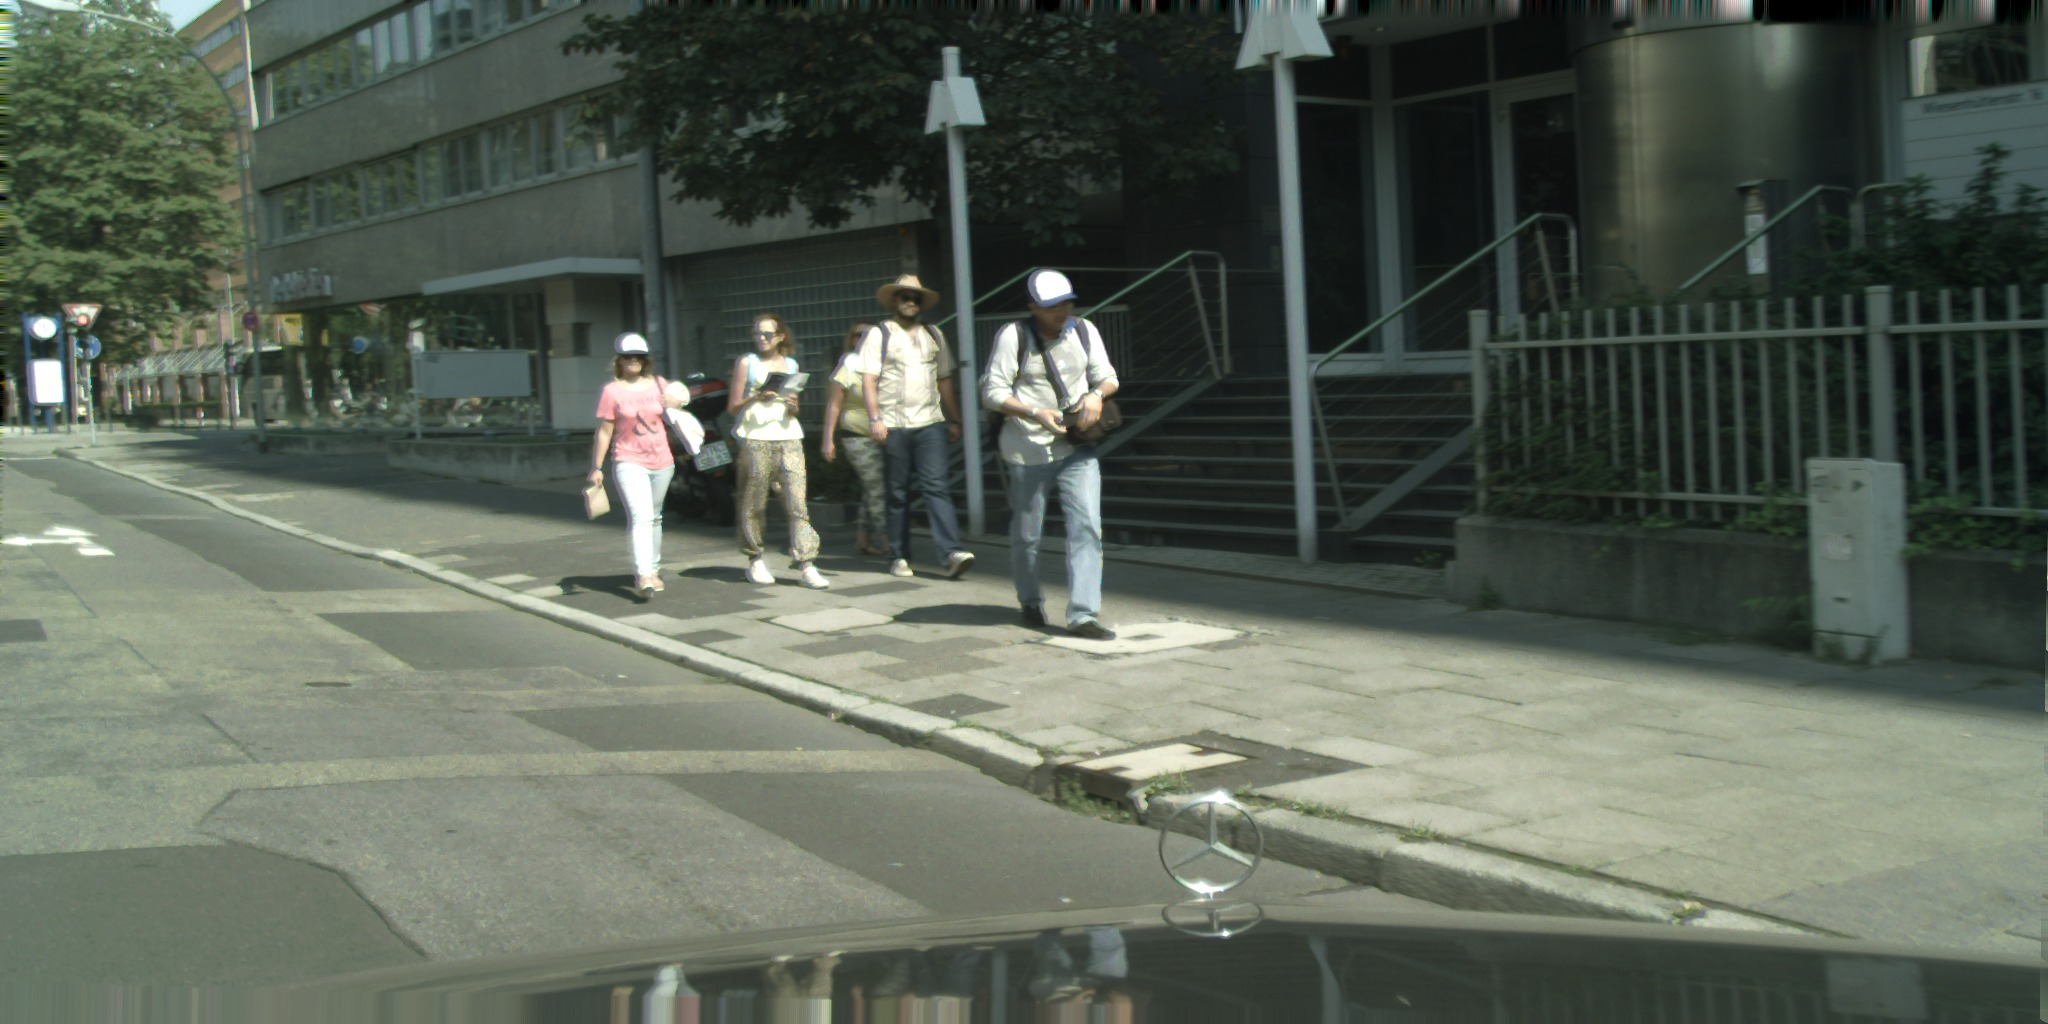bus: (234, 347, 287, 428)
motorcycle: (654, 372, 751, 526)
person: (979, 267, 1126, 642), (853, 273, 977, 578), (582, 330, 706, 601), (726, 312, 830, 594), (821, 321, 900, 559)
